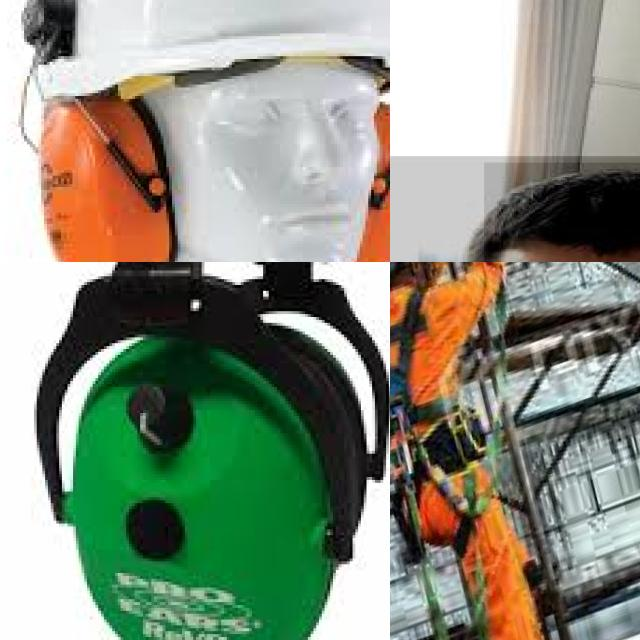Ear-protection: (67, 325, 335, 640), (29, 93, 183, 262), (348, 93, 390, 262)
Harness: (390, 290, 427, 488)
head_helmet: (23, 0, 390, 104)
head_nohelmet: (484, 162, 640, 262)
person: (390, 156, 640, 262)
